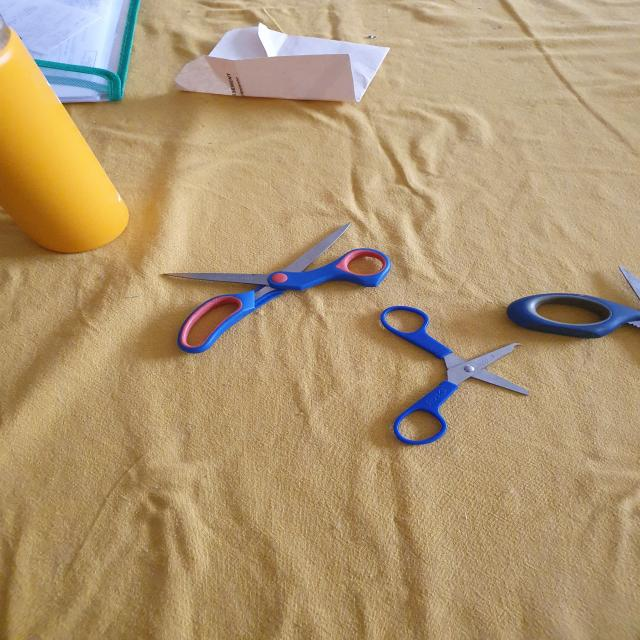scissors: (159, 224, 394, 356), (377, 302, 538, 448), (508, 262, 640, 344)
